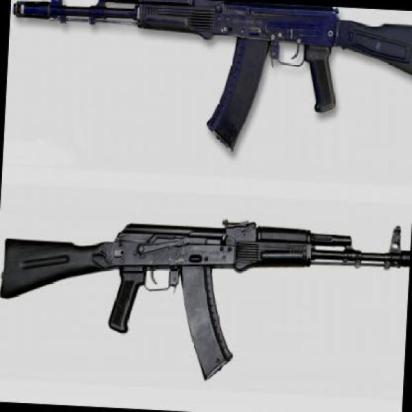Gun: (0, 169, 412, 394), (4, 0, 412, 167)
